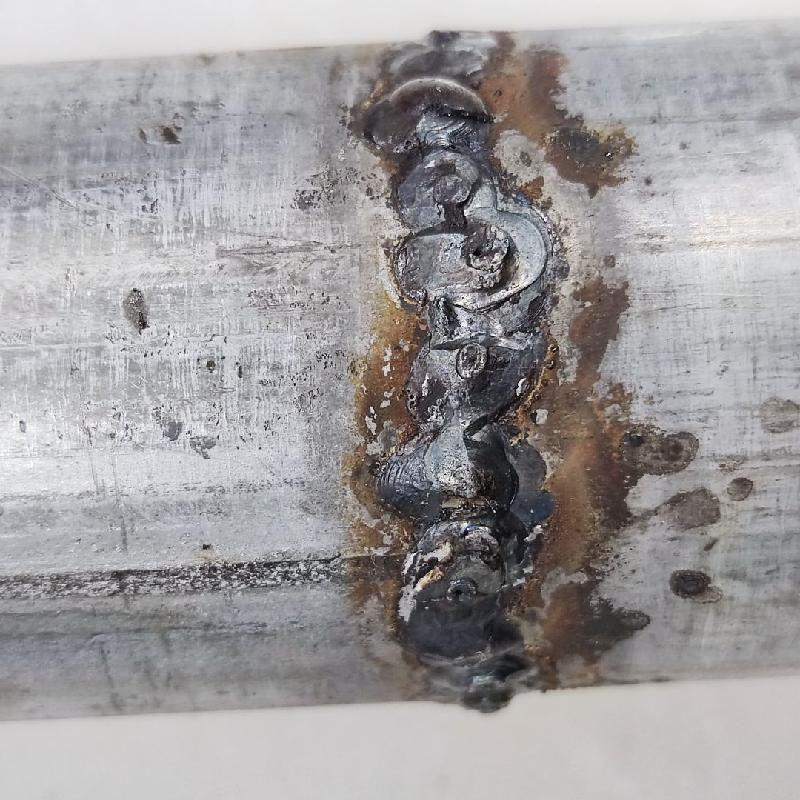Weld: (366, 74, 492, 150)
wrong_size: (395, 427, 523, 696), (396, 152, 522, 422)
